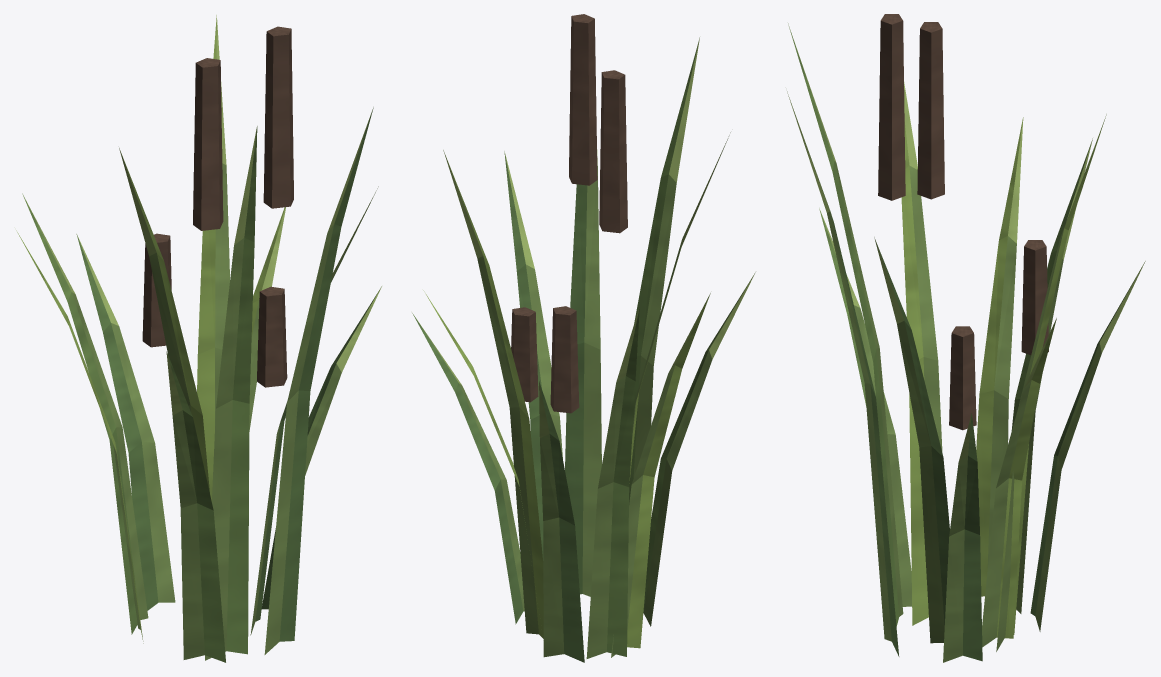
Rendered from cattail_clump_02.fbx.
3 renders of one model, left to right at view 1: azimuth 30°, elevation 25°; view 2: azimuth 150°, elevation 25°; view 3: azimuth 270°, elevation 25°, orthographic. The views are drawn at different scales.
Visible parts, largest first — view 1: cattail_clump_02; view 2: cattail_clump_02; view 3: cattail_clump_02.
Boxes of the visible parts, x1,y1,x2,y2 form: cattail_clump_02: (16,15,381,662); cattail_clump_02: (412,14,755,662); cattail_clump_02: (787,14,1145,662).
Bounding box in the file's own units: 87.48 × 150 × 78.
Materials: 1 (1 with a texture image).
